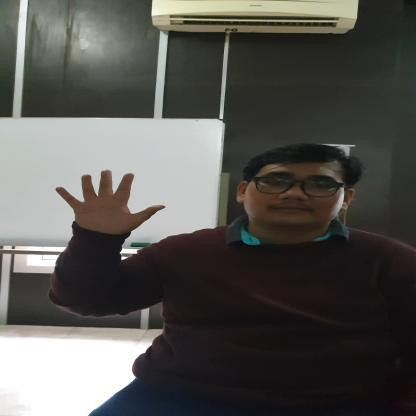Halo: (54, 166, 168, 238)
